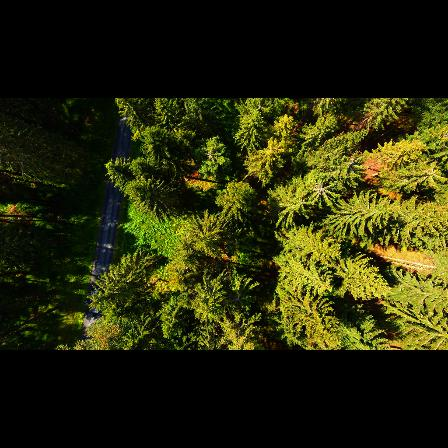Sick: (304, 177, 340, 203), (227, 288, 251, 314)
